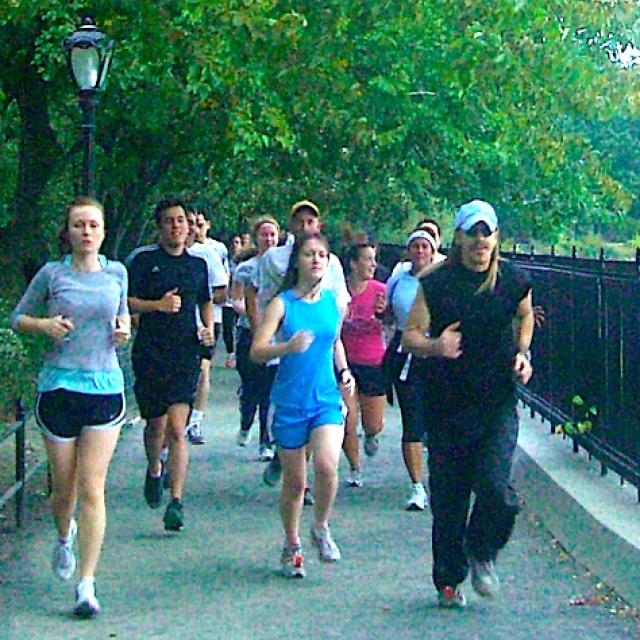body: (397, 194, 536, 612), (7, 191, 138, 622), (246, 227, 360, 583), (121, 192, 218, 532), (250, 195, 354, 510), (149, 196, 216, 494), (378, 225, 442, 513), (334, 238, 390, 491), (230, 213, 282, 464), (238, 227, 378, 268), (194, 206, 230, 348), (390, 216, 448, 279), (222, 230, 244, 371), (151, 230, 165, 247)
